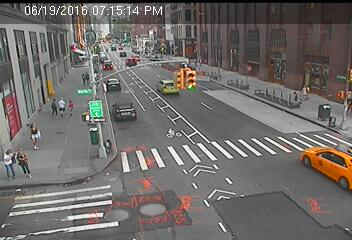neg: (300, 72, 320, 99), (139, 190, 157, 214), (211, 159, 229, 183), (160, 88, 177, 110), (254, 66, 270, 88), (307, 189, 323, 210), (198, 54, 212, 72), (301, 154, 315, 172), (137, 42, 150, 61)
pos: (11, 146, 35, 179), (22, 120, 45, 150), (1, 149, 23, 178), (55, 95, 72, 118), (65, 98, 81, 120), (48, 98, 62, 117), (78, 72, 90, 88), (83, 70, 94, 84)
